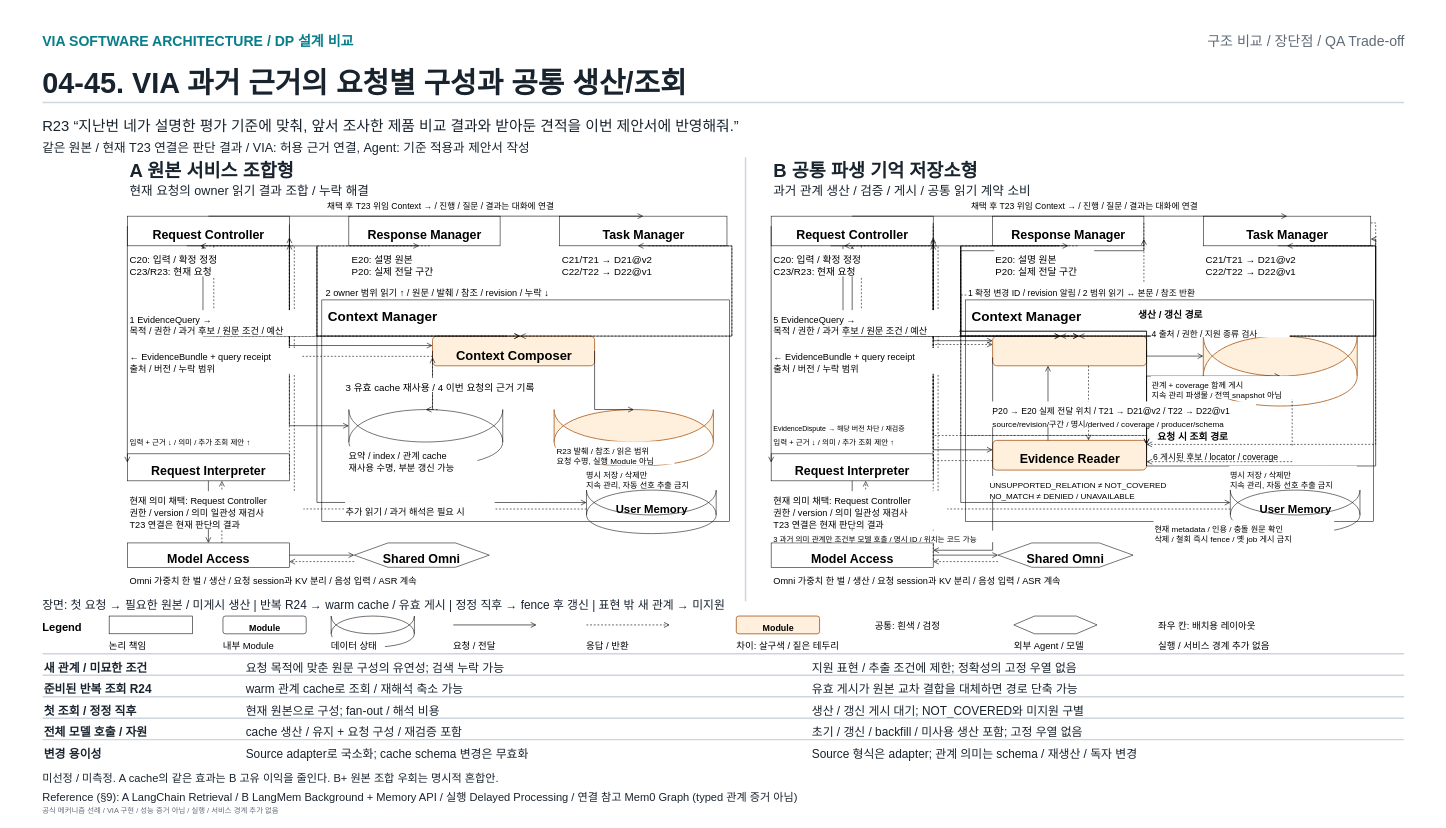
The diagram is 1446 pixels wide and 828 high, and some of its shapes have lost their labels. The shapes that lost their labels are listed below. From the top down, each one's centre as x and y in pixels, then its label:
At [1069,350]: "Memory Publisher".
At [1279,355]: "Episodic Memory Repository".
At [192,402]: "변경 / EvidenceDispute → 즉시 해당 파생 버전 차단 → 원본 재검증 / 부분 갱신".
At [821,397]: "NOT_COVERED / 파생 오류 → 생산 / 재검증 요청 ← 게시 revision / 상태 게시 확인 뒤 6 재조회".
At [425,425]: "Source View Cache".
At [633,425]: "Request Evidence Set".
At [150,624]: "Component".
At [372,624]: "State".
At [1055,624]: "Dependency".
